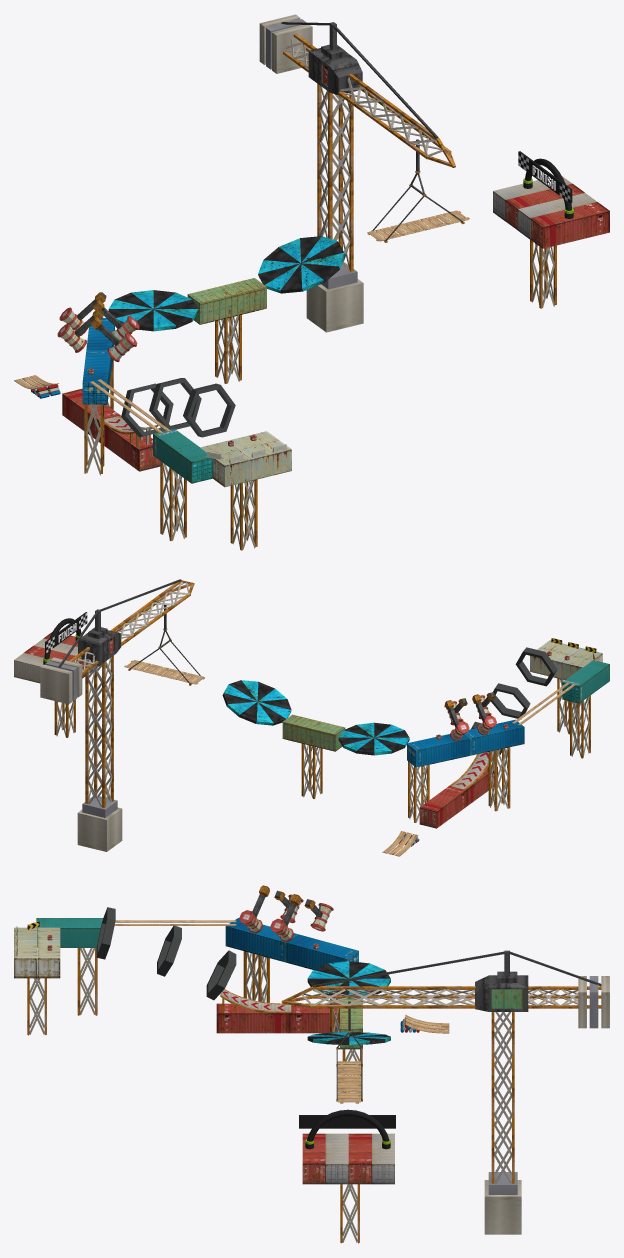
File: 23_Parkour.fbx
The picture shows the model from 3 angles, top to bottom: view 1: azimuth 30°, elevation 25°; view 2: azimuth 150°, elevation 25°; view 3: azimuth 270°, elevation 25°; orthographic projection. The views are drawn at different scales.
Parts seen in each view (by area): view 1: CraneOrange, TurningPlatform__1_, TurningPlatform, stcontainerred__8_, stcontainergreentwo, stcontainerwhite__2_, stcontainergreen, orangescaffold__5_, orangescaffold__4_, orangescaffold, stcontainerred__5_, finishObject (+13 smaller); view 2: CraneOrange, TurningPlatform__1_, TurningPlatform, stcontainergreentwo, stcontainerblue__1_, stcontainerred__4_, stcontainerblue, stcontainergreen, orangescaffold__2_, stcontainerwhite__1_, orangescaffold__5_, orangescaffold (+14 smaller); view 3: CraneOrange, finishObject, TurningPlatform, stcontainerred__5_, stcontainerblue__1_, stcontainerblue, stcontainergreen, stcontainerwhitetwo__1_, stcontainerred__7_, stcontainerred__4_, stcontainerwhite__1_, stcontainerwhite__2_ (+17 smaller).
Part boxes in pixels (x1,y1,x2,y2): CraneOrange: (259,14,455,332); TurningPlatform__1_: (258,236,345,293); TurningPlatform: (108,290,198,331); stcontainerred__8_: (530,202,609,248); stcontainergreentwo: (187,278,266,324); stcontainerwhite__2_: (212,440,291,487); stcontainergreen: (153,428,212,483); orangescaffold__5_: (160,461,186,540); orangescaffold__4_: (230,479,257,550); orangescaffold: (215,314,241,383); stcontainerred__5_: (104,424,160,471); finishObject: (518,151,573,218); CraneOrange: (40,579,194,851); TurningPlatform__1_: (222,680,291,725); TurningPlatform: (338,722,409,755); stcontainergreentwo: (282,714,345,751); stcontainerblue__1_: (407,734,469,767); stcontainerred__4_: (419,785,467,828); stcontainerblue: (464,719,524,755); stcontainergreen: (562,660,609,703); orangescaffold__2_: (488,747,510,811); stcontainerwhite__1_: (530,647,592,680); orangescaffold__5_: (570,695,590,758); orangescaffold: (301,743,322,798); CraneOrange: (281,950,609,1234); finishObject: (299,1109,395,1149); TurningPlatform: (307,961,390,995); stcontainerred__5_: (216,1003,288,1033); stcontainerblue__1_: (286,934,358,969); stcontainerblue: (225,918,297,962); stcontainergreen: (36,918,103,947); stcontainerwhitetwo__1_: (325,1133,348,1184); stcontainerred__7_: (348,1133,371,1184); stcontainerred__4_: (288,1003,338,1033); stcontainerwhite__1_: (37,927,60,978); stcontainerwhite__2_: (14,927,36,978).
Size of the model in its own units: 13940 by 7004 by 13765.
